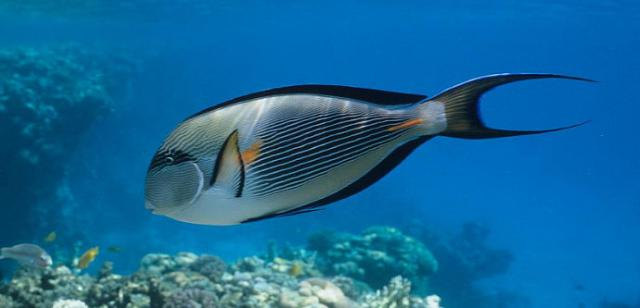Mulut: (130, 182, 168, 234)
Sirip Anal: (318, 122, 442, 206)
Sirip Dada: (202, 125, 256, 210)
Sirip Ekor: (438, 62, 612, 148)
Sirip Perut: (236, 204, 330, 232)
Sirip Punggung: (182, 81, 432, 118)
